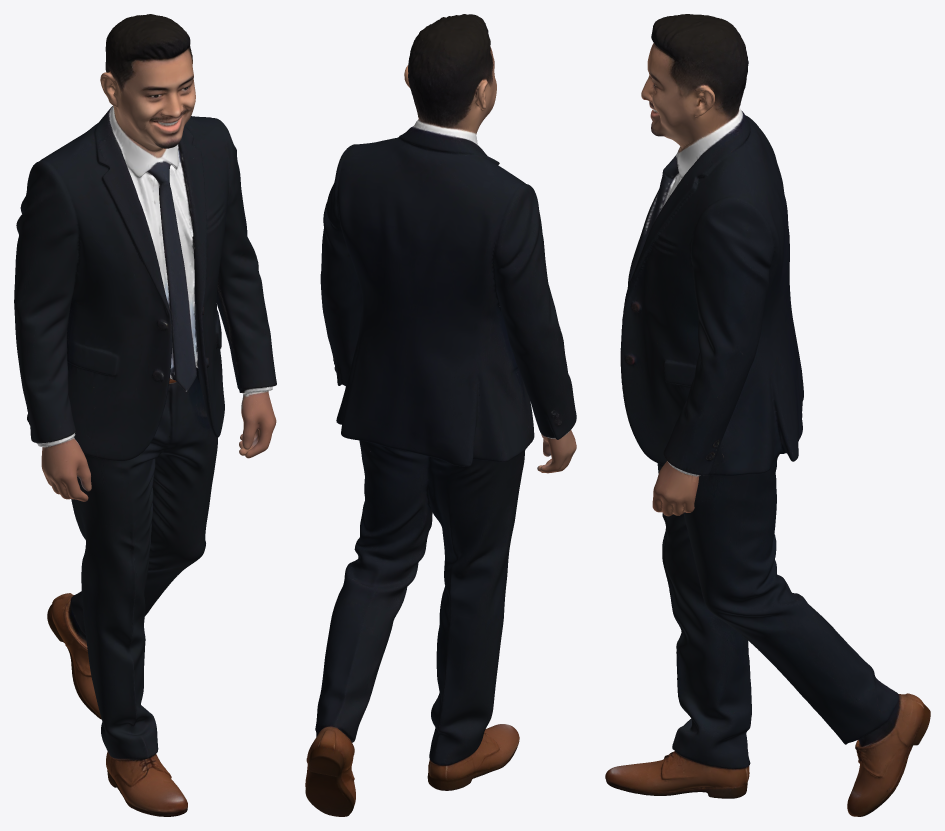
Rendered from rahul.glb.
3 renders of one model, left to right at view 1: azimuth 30°, elevation 25°; view 2: azimuth 150°, elevation 25°; view 3: azimuth 270°, elevation 25°, orthographic. The views are drawn at different scales.
Visible parts, largest first — view 1: Object_5, Object_6, Object_7; view 2: Object_6, Object_7, Object_5; view 3: Object_6, Object_5, Object_7.
Boxes of the visible parts, x1,y1,x2,y2 form: Object_5: [29, 17, 276, 816]; Object_6: [14, 18, 273, 806]; Object_7: [16, 14, 257, 783]; Object_6: [305, 15, 576, 816]; Object_7: [328, 24, 567, 777]; Object_5: [407, 14, 576, 775]; Object_6: [663, 14, 930, 816]; Object_5: [605, 14, 742, 795]; Object_7: [668, 14, 743, 798].
Bounding box in the file's own units: 0.6282 × 1.9 × 0.7184.
Materials: 1 (1 with a texture image).
